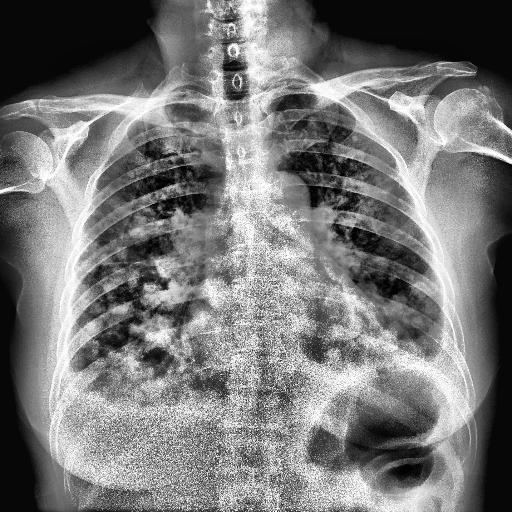0- Aortic enlargement: (250, 169, 312, 227)
10- Pleural effusion: (47, 354, 123, 460), (402, 315, 470, 403), (421, 320, 477, 410), (40, 330, 87, 424), (50, 376, 140, 424)
11- Pleural thickening: (421, 320, 477, 410), (40, 330, 87, 424)
3- Cardiomegaly: (177, 318, 410, 410)
6- Infiltration: (54, 81, 235, 396), (270, 88, 456, 392)
8- Nodule-Mass: (62, 97, 219, 406), (290, 124, 440, 375), (197, 278, 232, 308), (319, 290, 354, 319), (140, 282, 166, 306), (156, 254, 180, 278), (312, 202, 334, 226), (364, 254, 390, 274), (356, 204, 376, 222), (112, 297, 134, 313), (409, 281, 427, 299), (84, 341, 100, 360), (384, 299, 402, 315), (130, 226, 149, 240), (82, 258, 98, 274)
